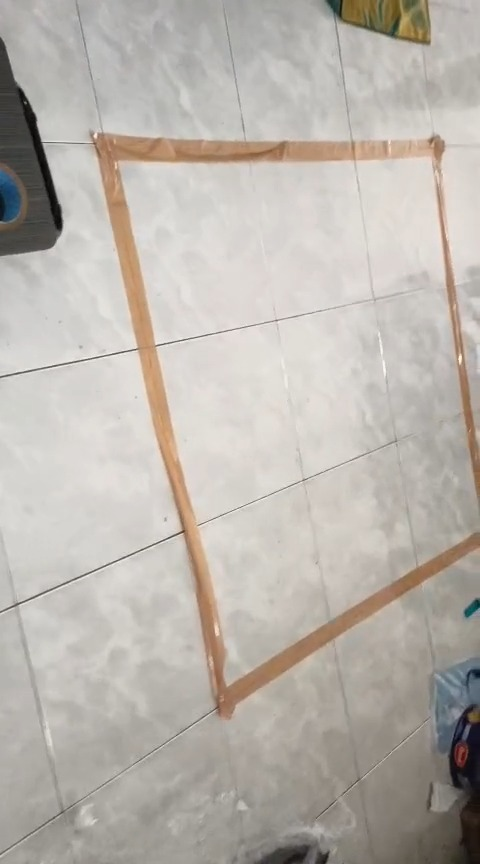floor marking: (92, 133, 479, 716)
